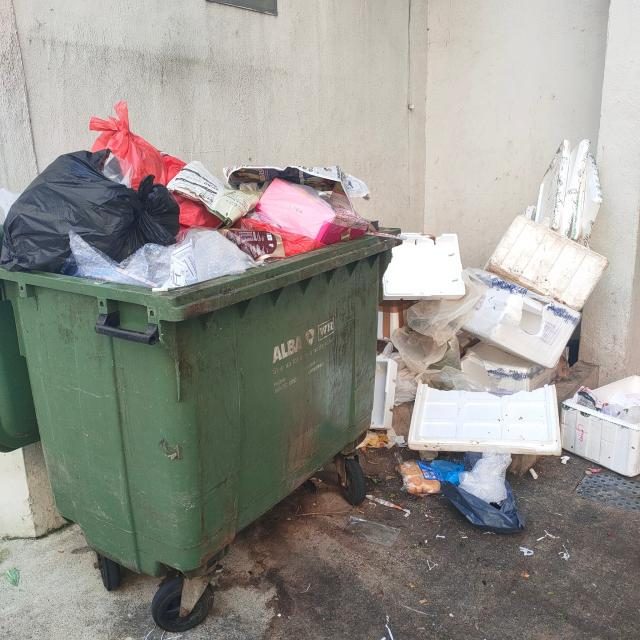bin_full: (1, 143, 373, 609)
bulk_waste: (486, 207, 610, 374), (563, 372, 636, 480)
normal_waste: (0, 149, 184, 271), (214, 162, 356, 248), (408, 448, 519, 532), (148, 229, 255, 287), (166, 155, 228, 232), (400, 310, 462, 380)
